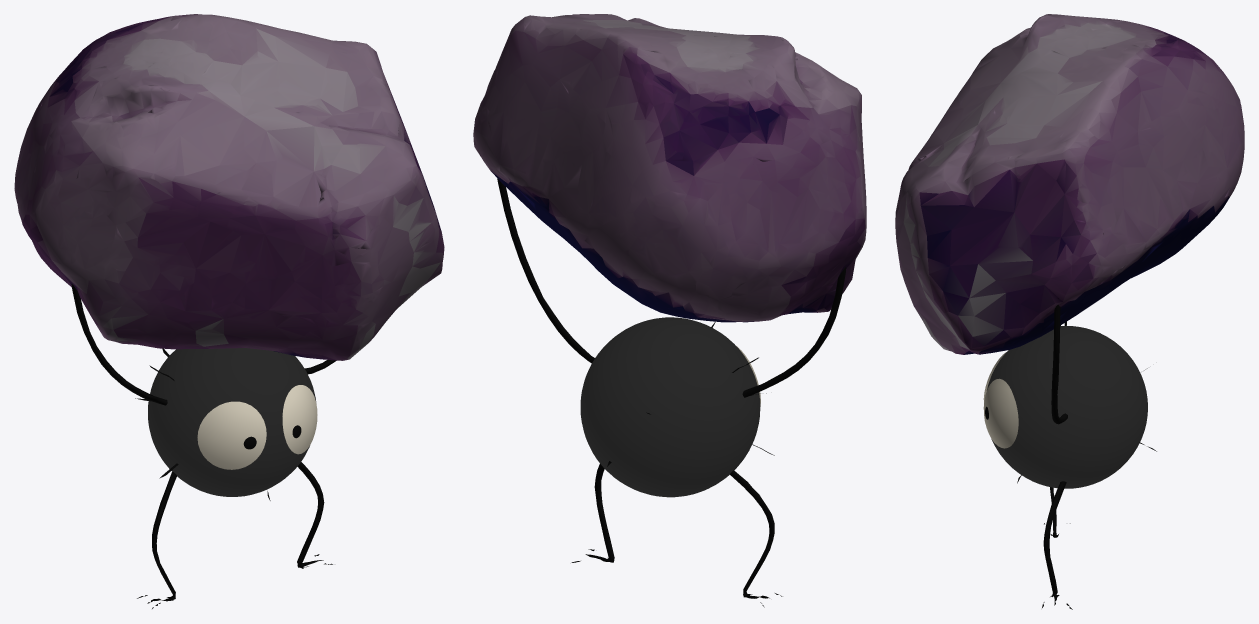
The model's file is noiraude.glb.
3 renders of one model, left to right at view 1: azimuth 30°, elevation 25°; view 2: azimuth 150°, elevation 25°; view 3: azimuth 270°, elevation 25°, orthographic. The views are drawn at different scales.
Visible parts, largest first — view 1: rock_Stone_0, Body_Body_0, Eyes_Eyes_0, Body_Black_0; view 2: rock_Stone_0, Body_Body_0, Body_Black_0; view 3: rock_Stone_0, Body_Body_0, Eyes_Eyes_0, Body_Black_0.
Boxes of the visible parts, bbox=[...] form: rock_Stone_0: bbox=[14, 14, 444, 360]; Body_Body_0: bbox=[148, 348, 316, 496]; Eyes_Eyes_0: bbox=[197, 385, 317, 469]; Body_Black_0: bbox=[71, 284, 336, 608]; rock_Stone_0: bbox=[473, 14, 866, 322]; Body_Body_0: bbox=[580, 317, 760, 497]; Body_Black_0: bbox=[497, 178, 846, 607]; rock_Stone_0: bbox=[895, 14, 1244, 354]; Body_Body_0: bbox=[986, 326, 1147, 488]; Eyes_Eyes_0: bbox=[983, 352, 1018, 448]; Body_Black_0: bbox=[985, 298, 1156, 609].
Bounding box in the file's own units: 1.85 × 2.62 × 1.6.
